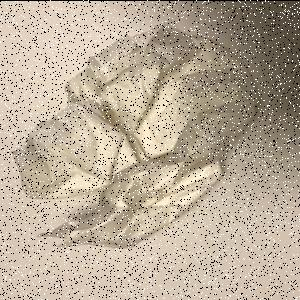Trash: (10, 18, 260, 250)
